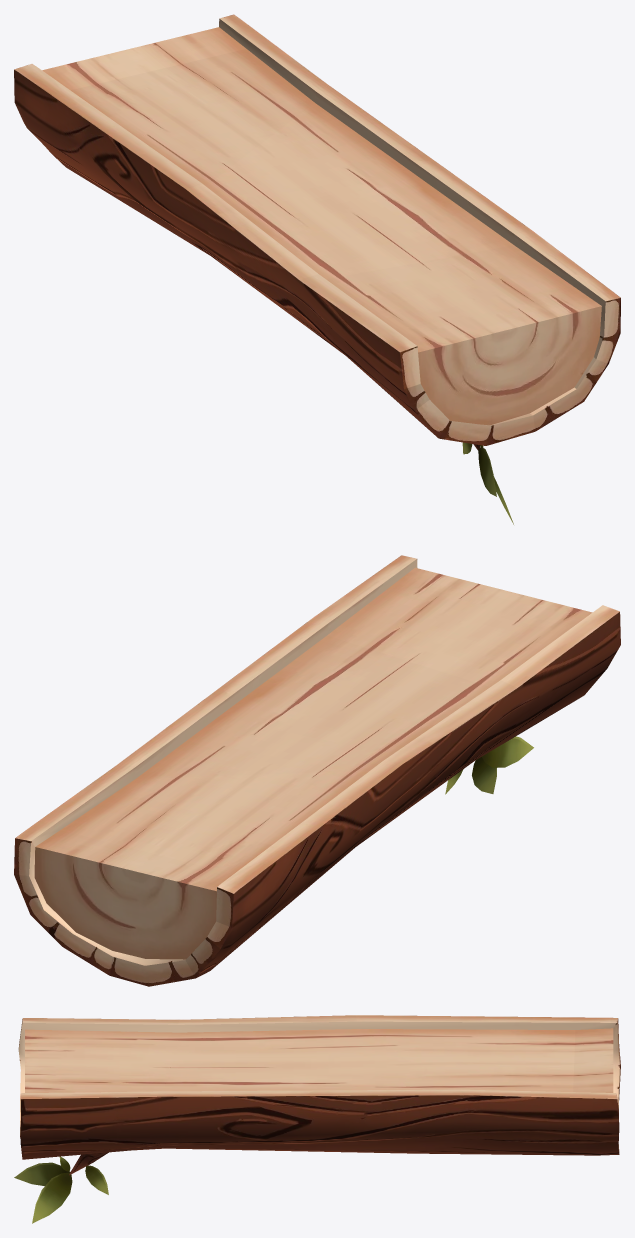
The model's file is log_compressed.glb.
3 views of the same model, one above another, from view 1: azimuth 30°, elevation 25°; view 2: azimuth 150°, elevation 25°; view 3: azimuth 270°, elevation 25° (orthographic). The views are drawn at different scales.
Parts seen in each view (by area): view 1: defaultMaterial; view 2: defaultMaterial; view 3: defaultMaterial.
Boxes of the visible parts, x1,y1,x2,y2 form: defaultMaterial: [14, 14, 620, 524]; defaultMaterial: [14, 555, 620, 986]; defaultMaterial: [14, 1015, 620, 1223].
Size of the model in its own units: 0.6449 by 0.5968 by 2.
1 material, 1 textured.
